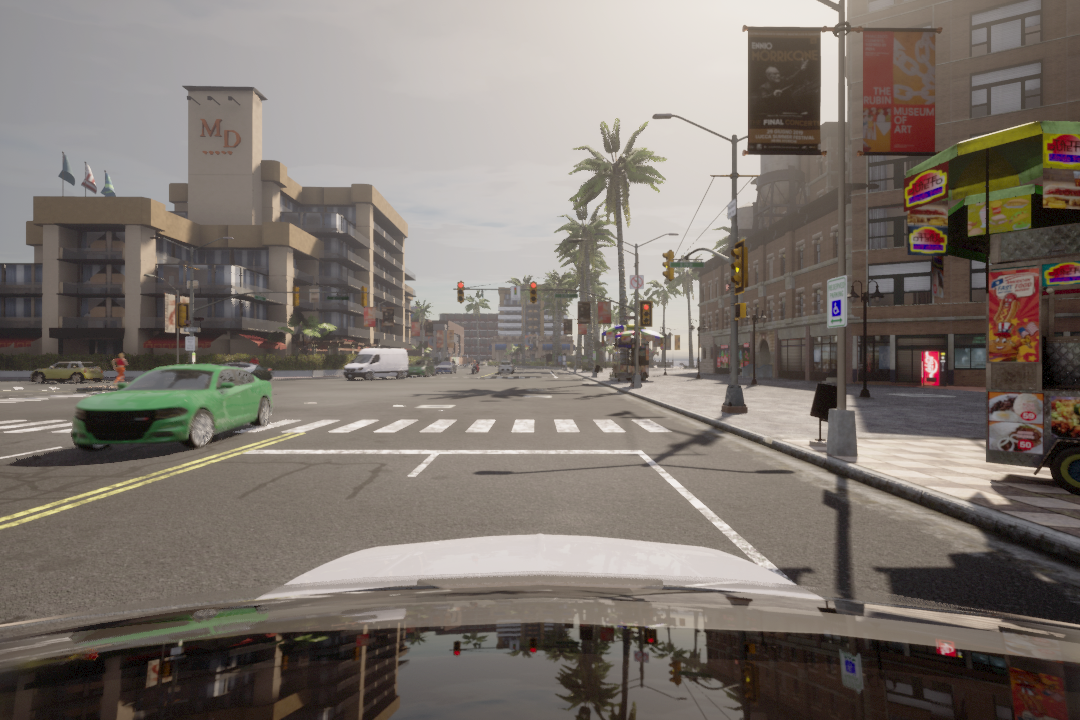TrafficLight: (731, 241, 748, 294), (660, 251, 680, 283), (641, 299, 654, 326), (529, 279, 537, 306), (456, 279, 464, 302)
TrafficSign: (628, 274, 647, 289)
walkside: (1, 417, 700, 435)
